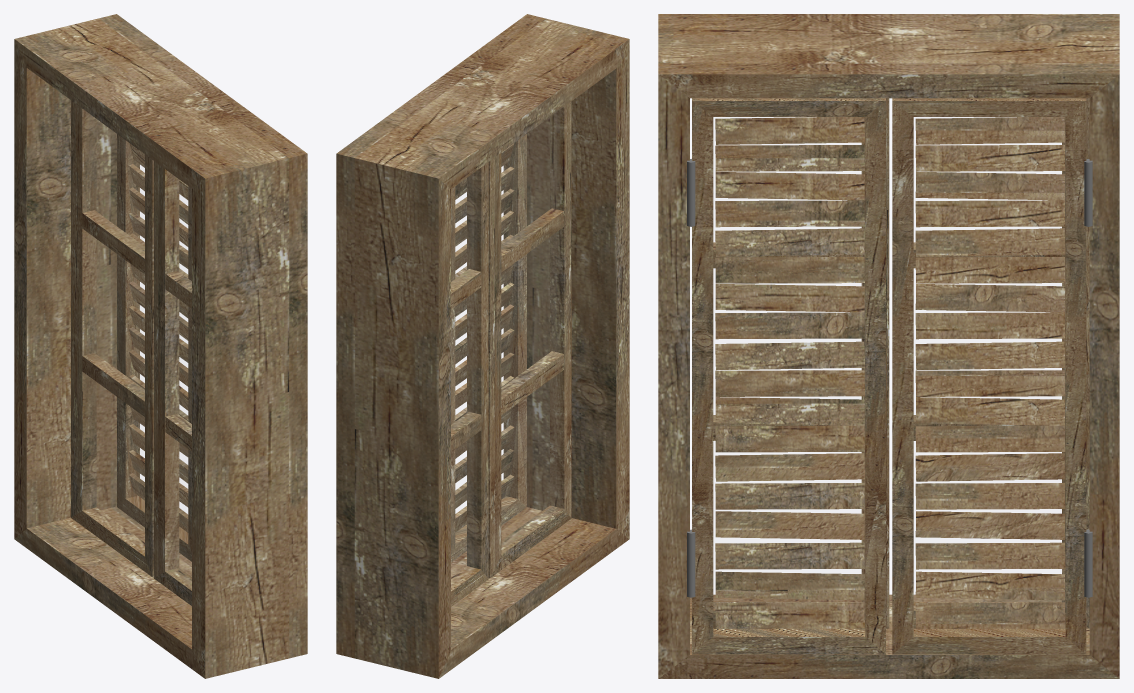
Rendered from OldHouseWindowWood.obj.
3 views of the same model, side by side, from view 1: azimuth 30°, elevation 25°; view 2: azimuth 150°, elevation 25°; view 3: azimuth 270°, elevation 25° (orthographic). The views are drawn at different scales.
Parts seen in each view (by area): view 1: Rectangle02, Rectangle05, Rectangle04, Rectangle01; view 2: Rectangle02, Rectangle01, Rectangle03, Rectangle05; view 3: Rectangle04, Rectangle03, Rectangle02, Rectangle01, Rectangle05.
Part boxes in pixels (left/top/right/bottom): Rectangle02: left=14, top=14, right=307, bottom=678; Rectangle05: left=71, top=100, right=153, bottom=577; Rectangle04: left=117, top=134, right=191, bottom=561; Rectangle01: left=153, top=161, right=191, bottom=605; Rectangle02: left=336, top=14, right=629, bottom=678; Rectangle01: left=488, top=101, right=571, bottom=578; Rectangle03: left=451, top=134, right=526, bottom=562; Rectangle05: left=451, top=162, right=488, bottom=606; Rectangle04: left=892, top=98, right=1086, bottom=654; Rectangle03: left=692, top=98, right=885, bottom=654; Rectangle02: left=658, top=14, right=1119, bottom=678; Rectangle01: left=713, top=98, right=889, bottom=628; Rectangle05: left=913, top=98, right=1089, bottom=628.
Bounding box in the file's own units: 0.3548 × 1.6 × 1.11.
Materials: 3 (1 with a texture image).
